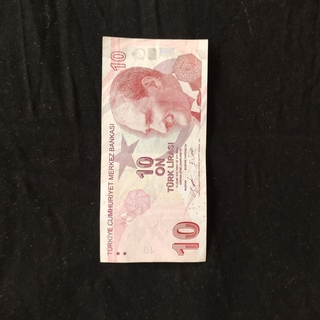10TLFront: (98, 34, 209, 264)
